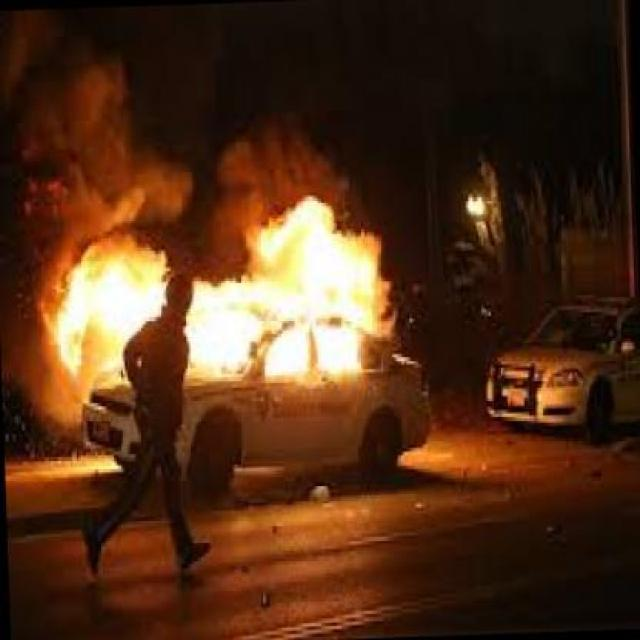Fire: (56, 202, 397, 385)
Smoke: (7, 10, 359, 198), (4, 202, 56, 402)
